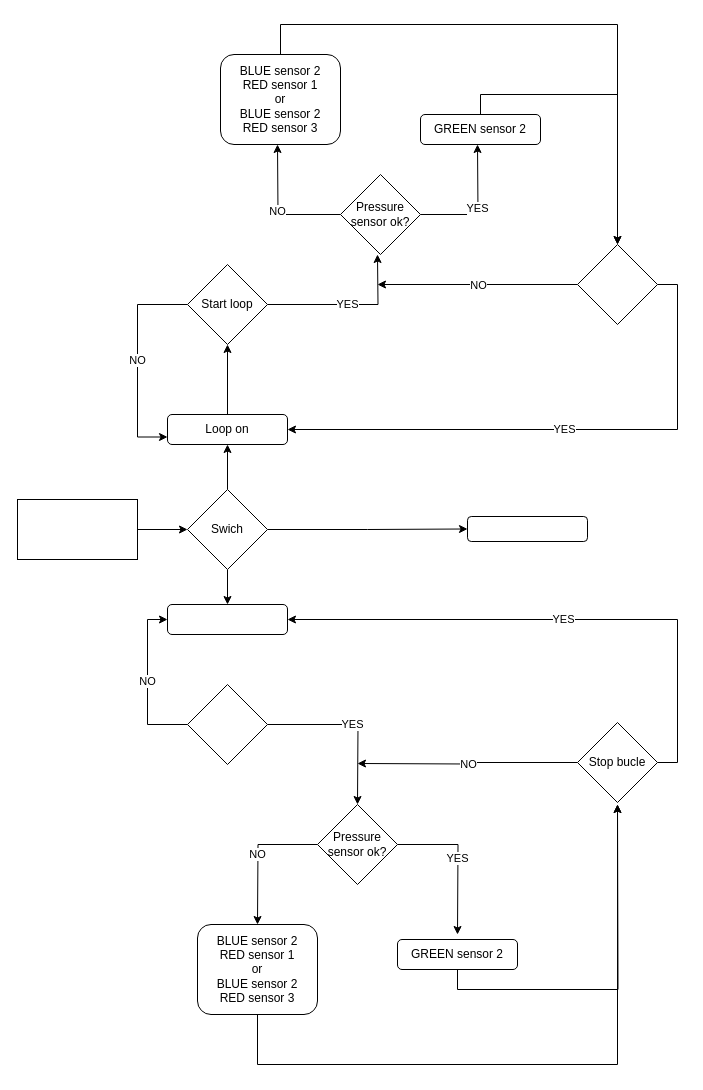
This 703x1090 diagram has some shape labels left out. Here are the shapes that lost their labels. From the top down, the box of each, then its label:
(576, 244, 658, 324): Stop Loop
(16, 498, 138, 560): START
(466, 516, 588, 542): OFF
(166, 604, 288, 634): Bucle on
(186, 684, 268, 764): Start Bucle
